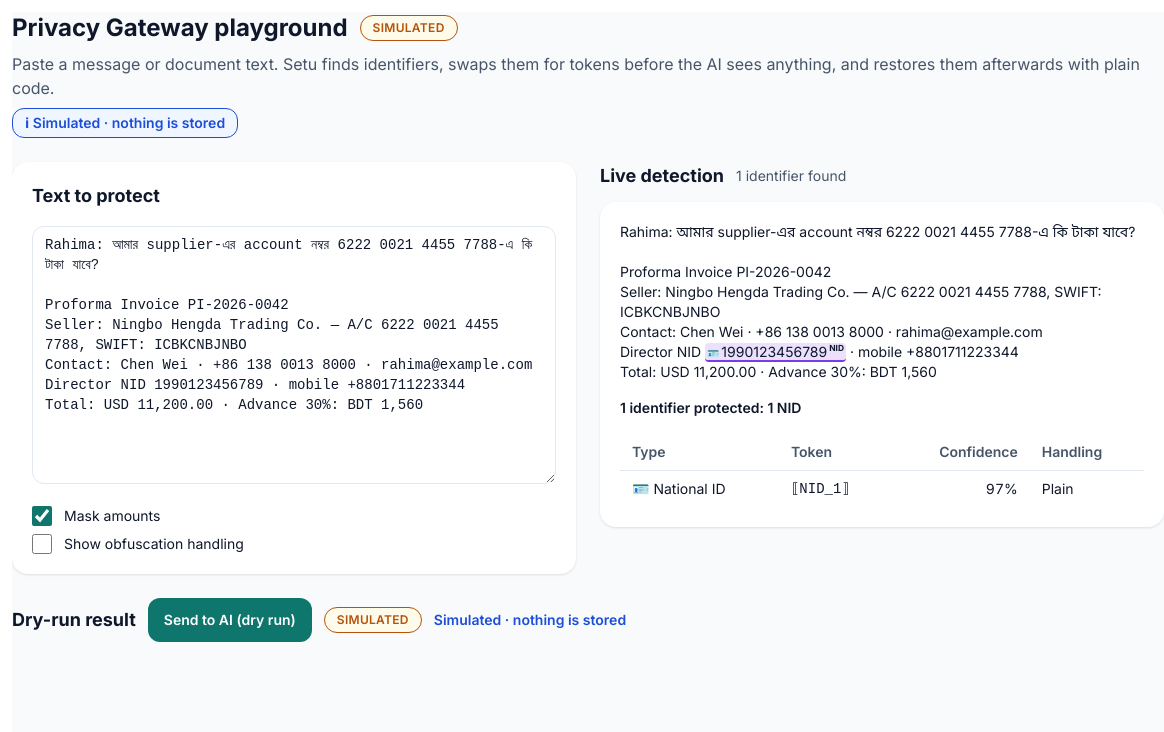
PrivacyPlayground › shows masked, answer and restored panes after Send to AI (dry run)
Expected: the element with test id "live-source" is shown, [620,222,1144,382]
Click the button "Send to AI (dry run)". click: (230, 620)
box: [148,598,312,642]
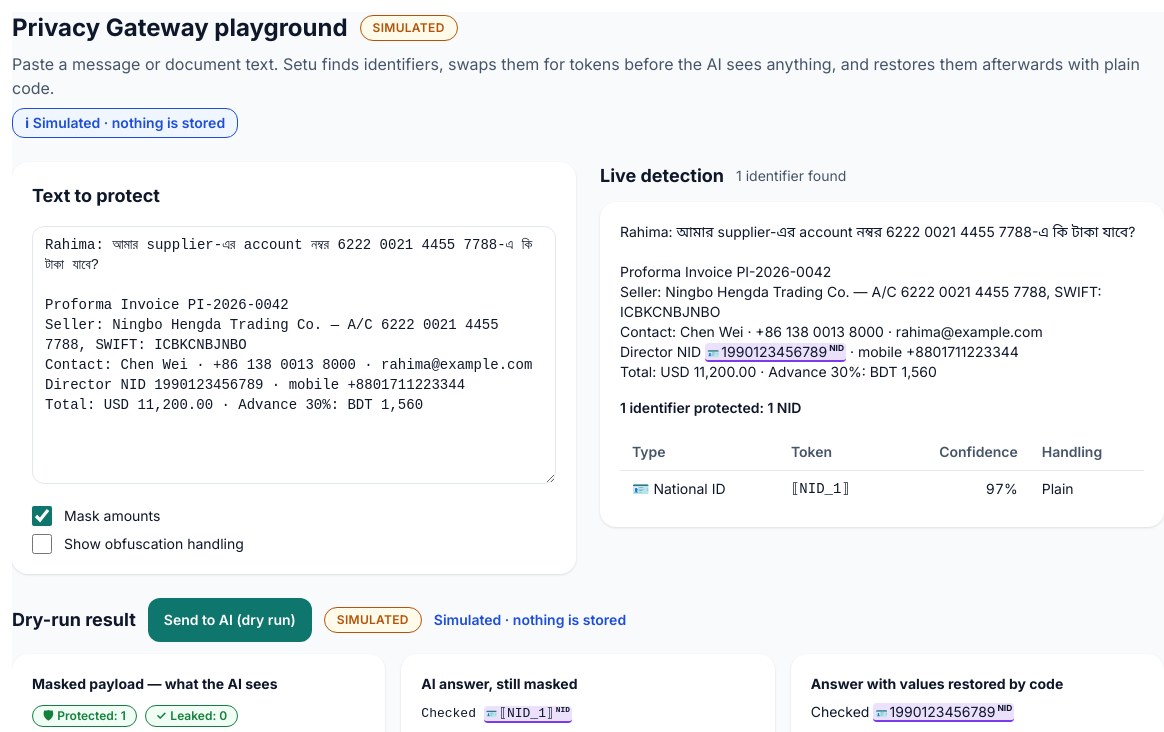
Now the element with test id "pane-answer" reads "Checked 🪪⟦NID_1⟧NID", box [421,706,572,723]
Now the element with test id "pane-restored" reads "Checked 🪪1990123456789NID", box [811,703,1014,722]
Now the element with test id "leaked-badge" shows "Leaked: 0", box [170,708,227,723]
